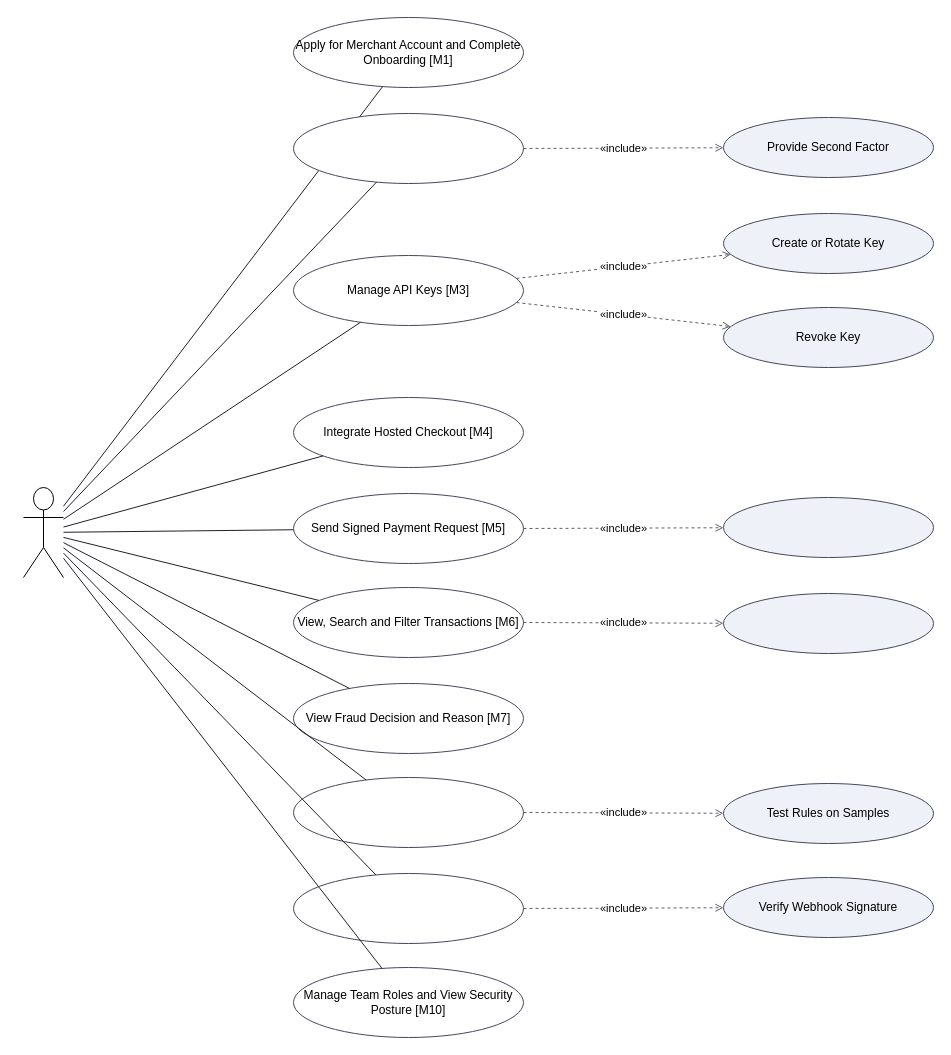
The diagram is 951 pixels wide and 1055 high, and some of its shapes have lost their labels. Here are the shapes that lost their labels. From the top down, the centre of each, then its label:
At point 408,148: "Sign In with Multi-Factor Authentication [M2]".
At point 43,532: "Merchant".
At point 828,527: "Sign Request (HMAC)".
At point 828,623: "Search and Filter".
At point 408,812: "Configure and Test Fraud Rules [M8]".
At point 408,908: "Issue Refunds and Receive Signed Webhooks [M9]".
